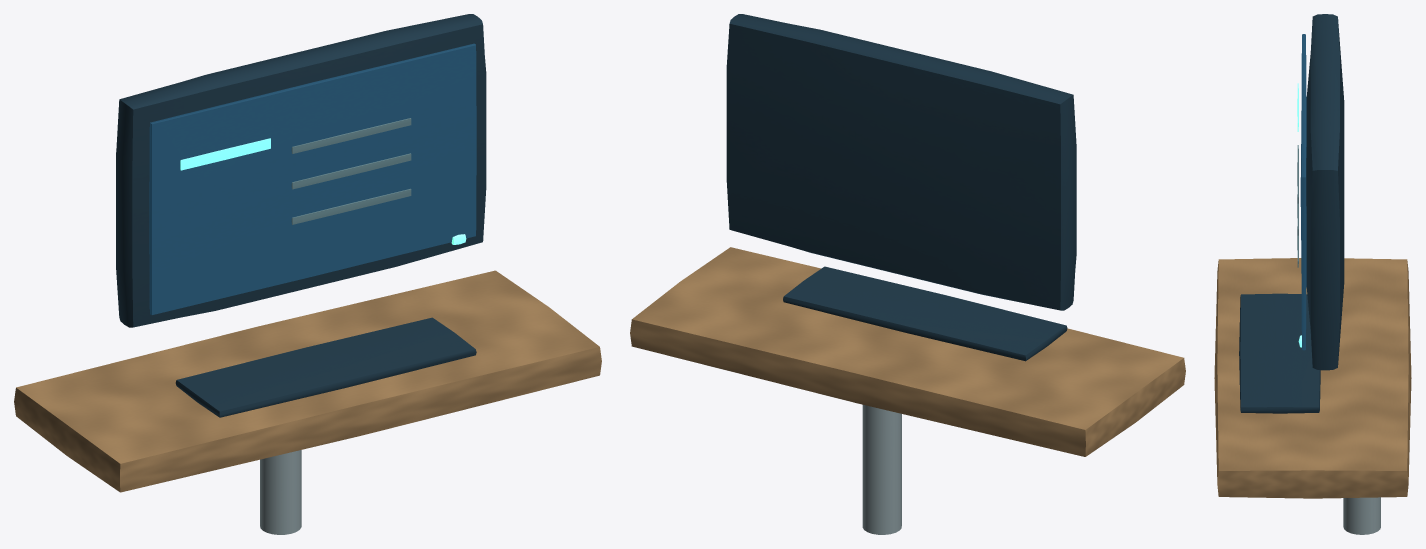
Rendered from wall-terminal.glb.
The picture shows the model from 3 angles, left to right: view 1: azimuth 30°, elevation 25°; view 2: azimuth 150°, elevation 25°; view 3: azimuth 270°, elevation 25°; orthographic projection. The views are drawn at different scales.
Parts seen in each view (by area): view 1: wall-terminal; view 2: wall-terminal; view 3: wall-terminal.
Part boxes in pixels (<box>): wall-terminal: <box>14,14,601,534</box>; wall-terminal: <box>630,14,1185,534</box>; wall-terminal: <box>1214,14,1411,534</box>.
Size of the model in its own units: 0.62 by 0.59 by 0.24.
Materials: 10 (10 with a texture image).
